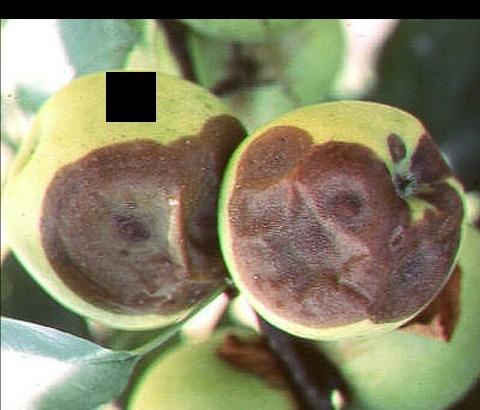rotten apple: (0, 60, 241, 339), (228, 97, 477, 346)
